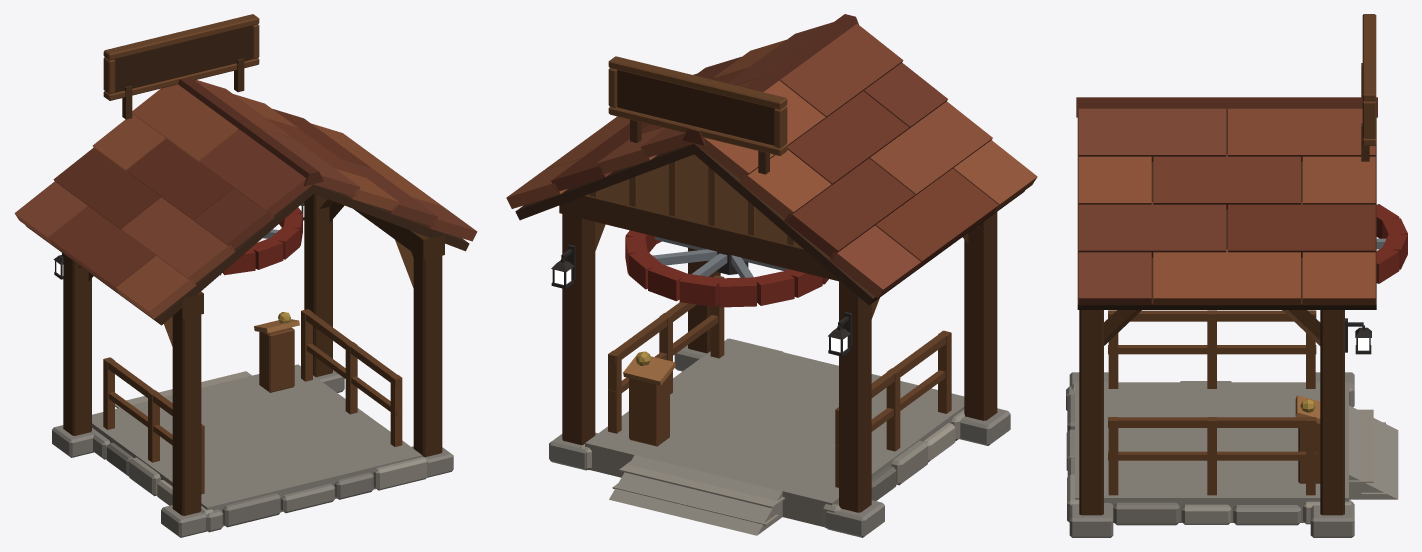
File: GondolaStation.glb
3 renders of one model, left to right at view 1: azimuth 30°, elevation 25°; view 2: azimuth 150°, elevation 25°; view 3: azimuth 270°, elevation 25°, orthographic. The views are drawn at different scales.
Parts seen in each view (by area): view 1: Roof, Body, Platform, Sign, Bullwheel; view 2: Body, Roof, Platform, Bullwheel, Sign; view 3: Roof, Body, Platform, Bullwheel.
Part boxes in pixels (x1,y1,x2,y2): Roof: (14, 76, 477, 325); Body: (52, 14, 453, 537); Platform: (92, 364, 422, 526); Sign: (114, 26, 252, 92); Bullwheel: (220, 207, 302, 275); Body: (549, 56, 1010, 537); Roof: (506, 14, 1037, 305); Platform: (585, 338, 964, 527); Bullwheel: (625, 230, 828, 307); Sign: (617, 70, 774, 145); Roof: (1076, 97, 1377, 309); Body: (1066, 14, 1398, 537); Platform: (1075, 382, 1348, 522); Bullwheel: (1376, 204, 1407, 283).
Size of what is drawn, in the model's own units: 15.27 by 16.55 by 12.47.
